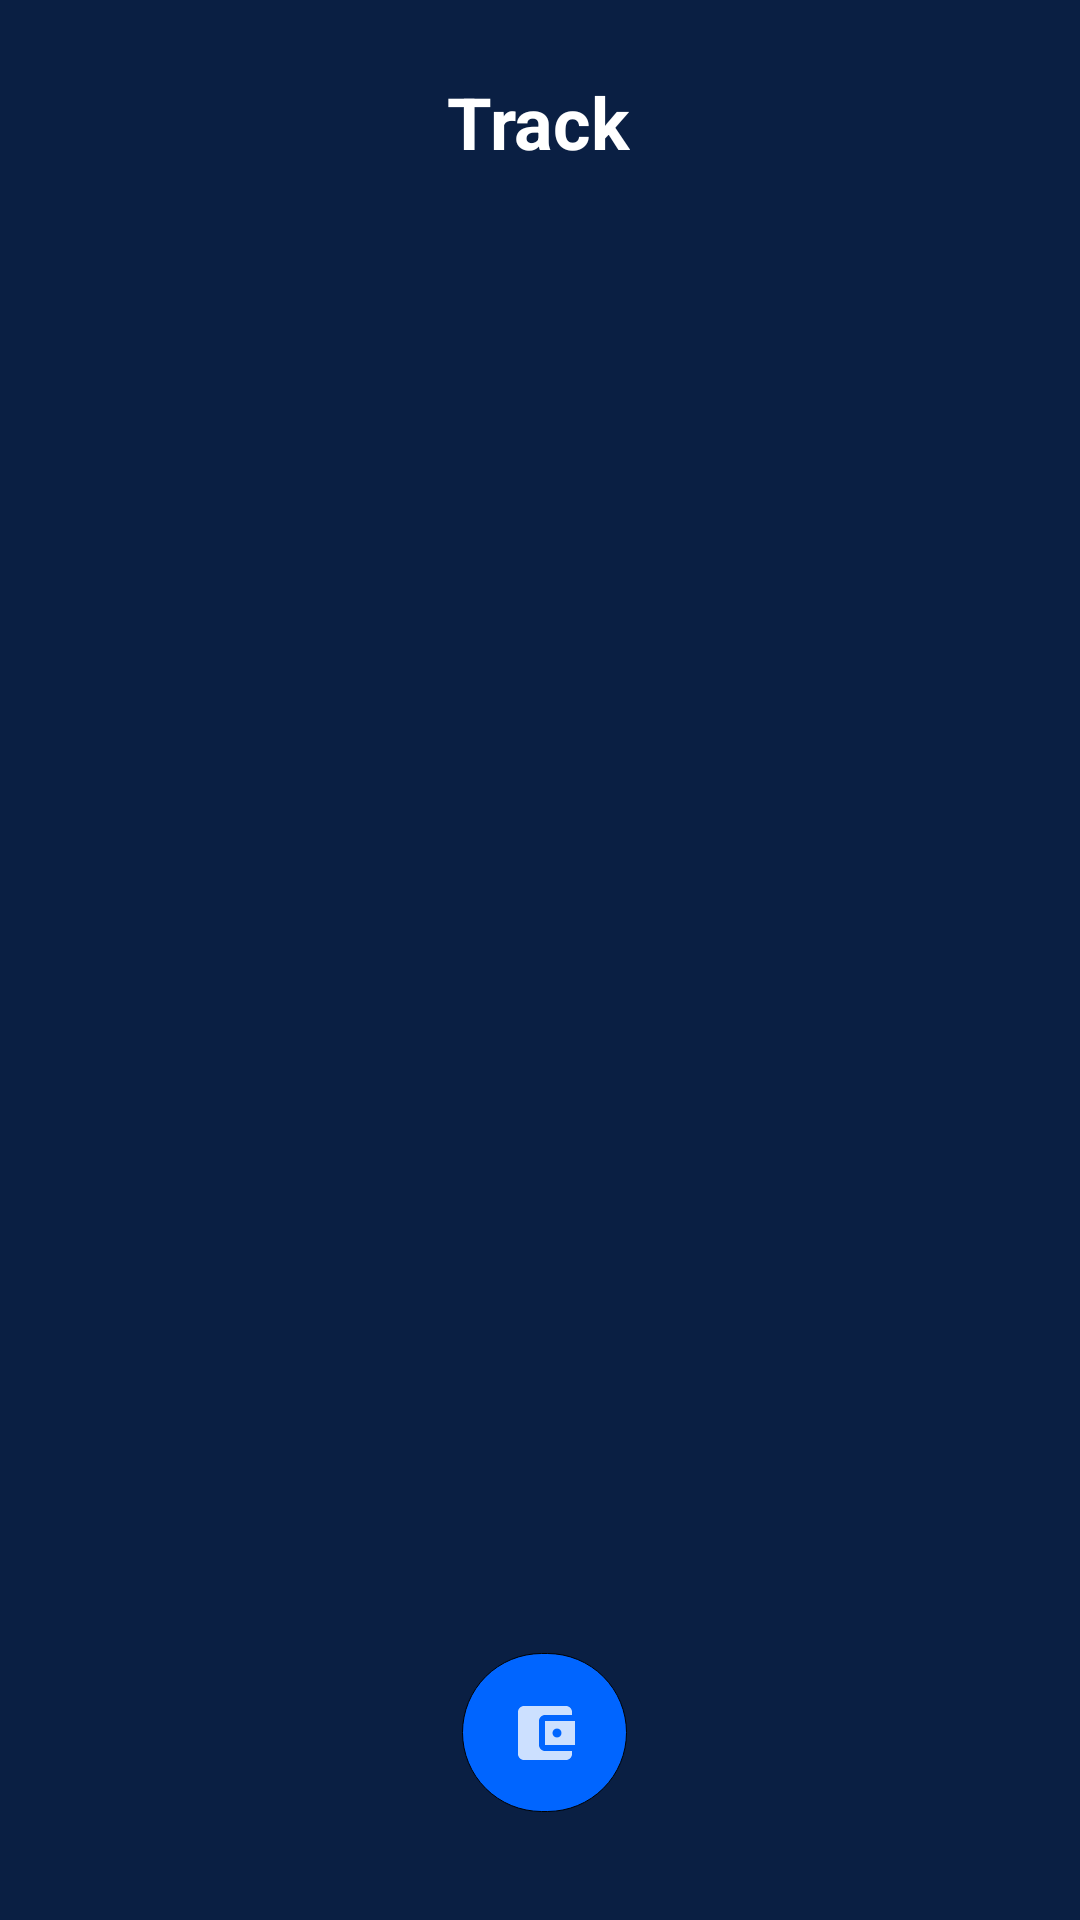

Named icons in this screenshot (1080px×1920px) and their bounding boxes, bbox(x1, y1, x2, y2):
wallet: bbox(462, 1653, 627, 1812)
